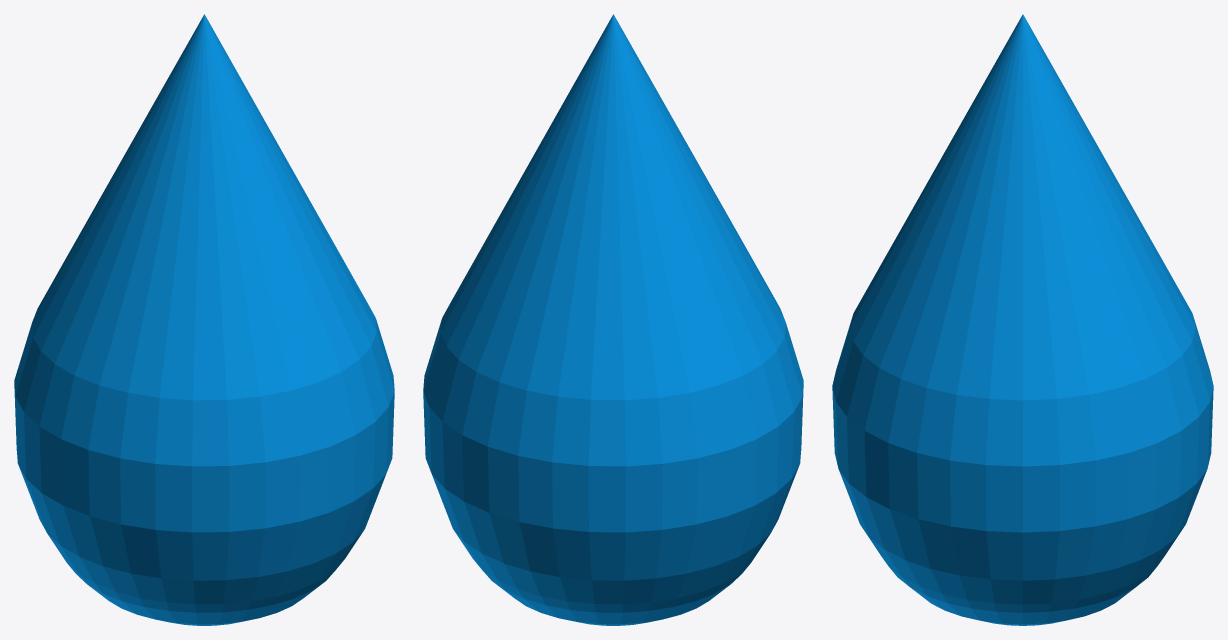
The model's file is gems_004.glb.
3 renders of one model, left to right at view 1: azimuth 30°, elevation 25°; view 2: azimuth 150°, elevation 25°; view 3: azimuth 270°, elevation 25°, orthographic.
Visible parts, largest first — view 1: gems_004; view 2: gems_004; view 3: gems_004.
Boxes of the visible parts, x1,y1,x2,y2 form: gems_004: [14, 14, 394, 625]; gems_004: [423, 14, 803, 625]; gems_004: [832, 14, 1213, 625].
Size of the model in its own units: 0.1035 by 0.1755 by 0.1035.
